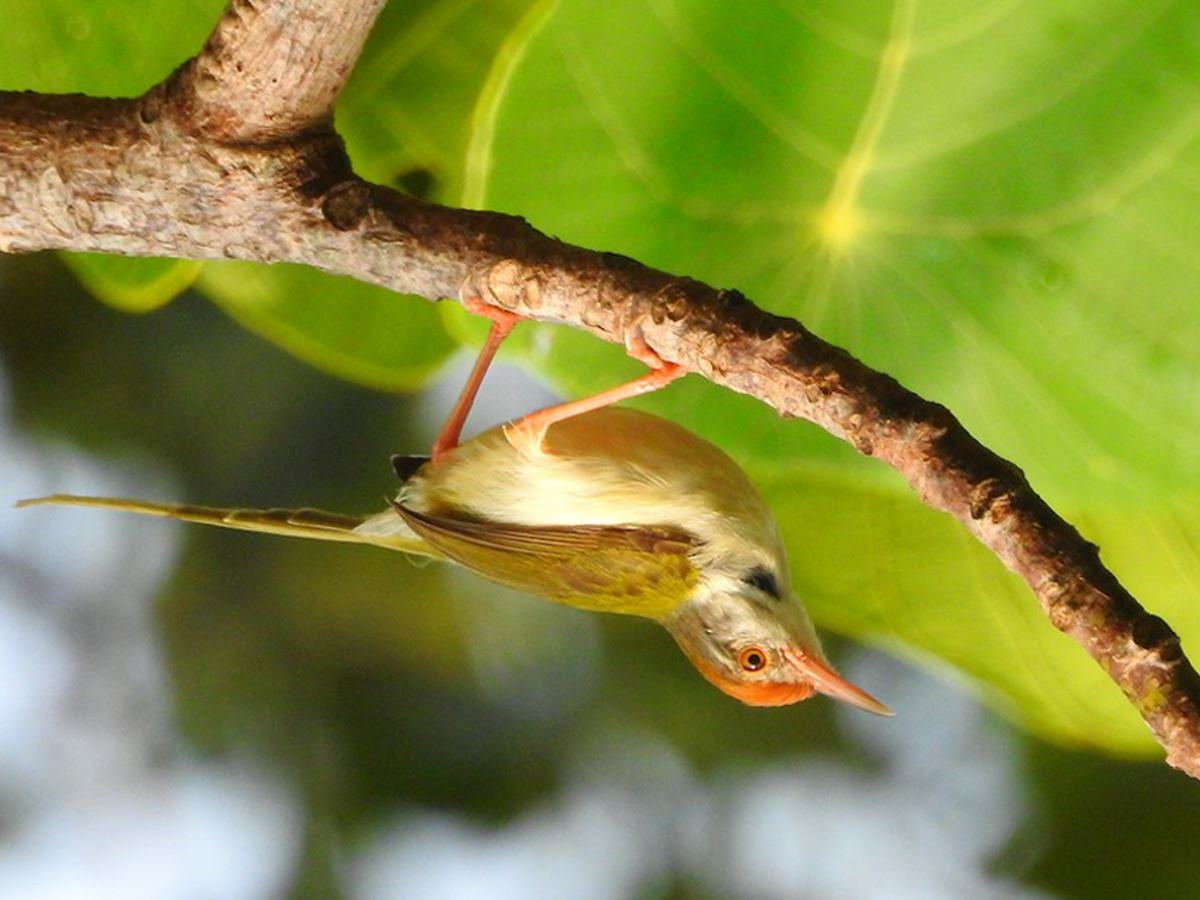tailorbird: (11, 337, 911, 734)
